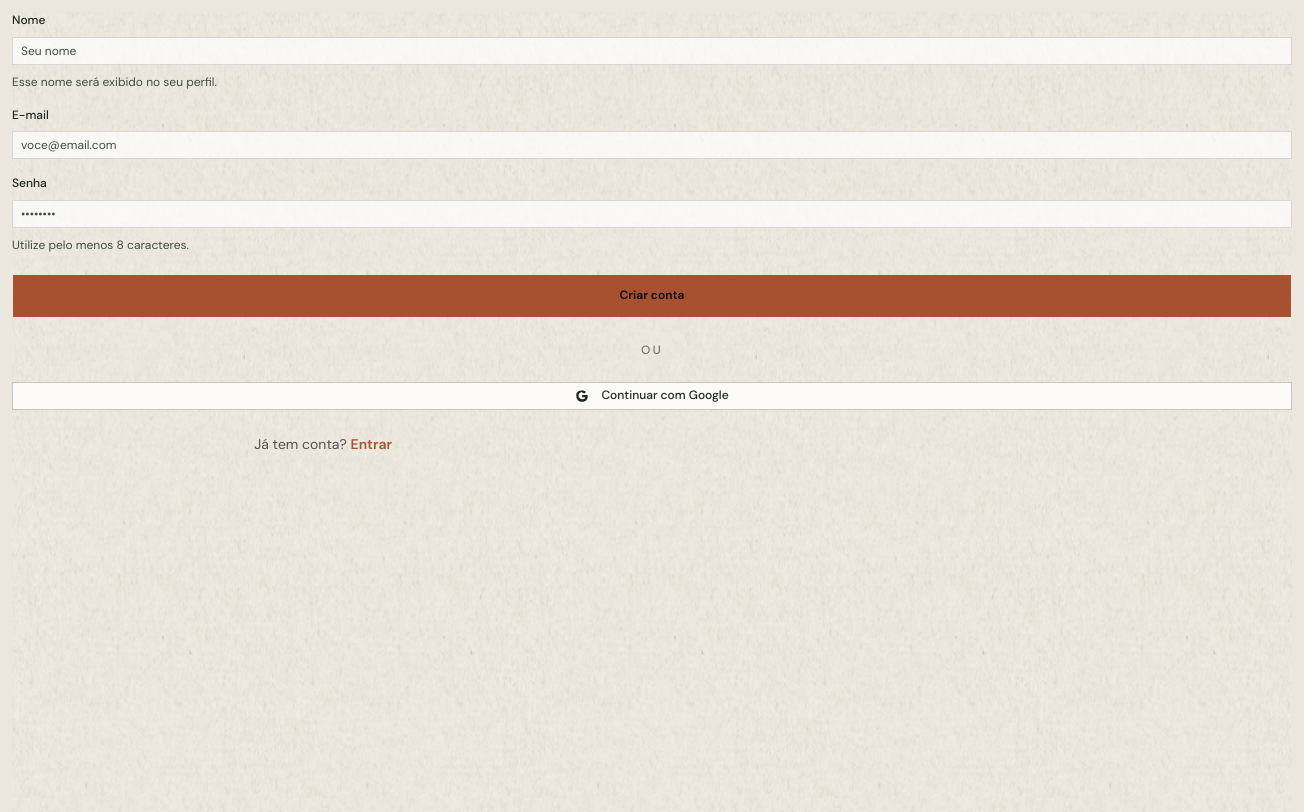
Test: SignUpForm › exibe erro retornado pela API
The image size is (1304, 812).
Type "Douglas" into the field with placeholder "Seu nome" at (652,50), box top-left (12, 36), bottom-right (1292, 64)
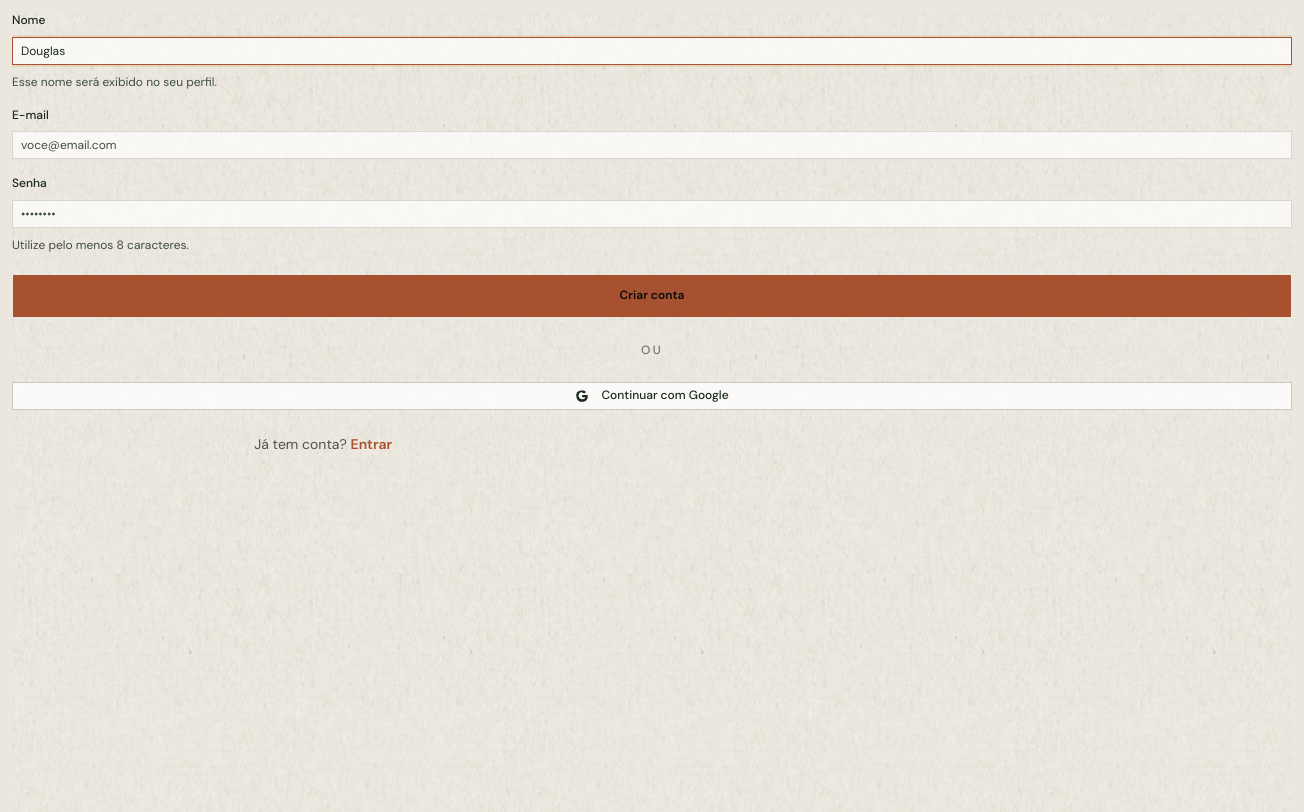
Type "douglas@email.com" into the field with placeholder "voce@email.com" at (652,145), box top-left (12, 131), bottom-right (1292, 159)
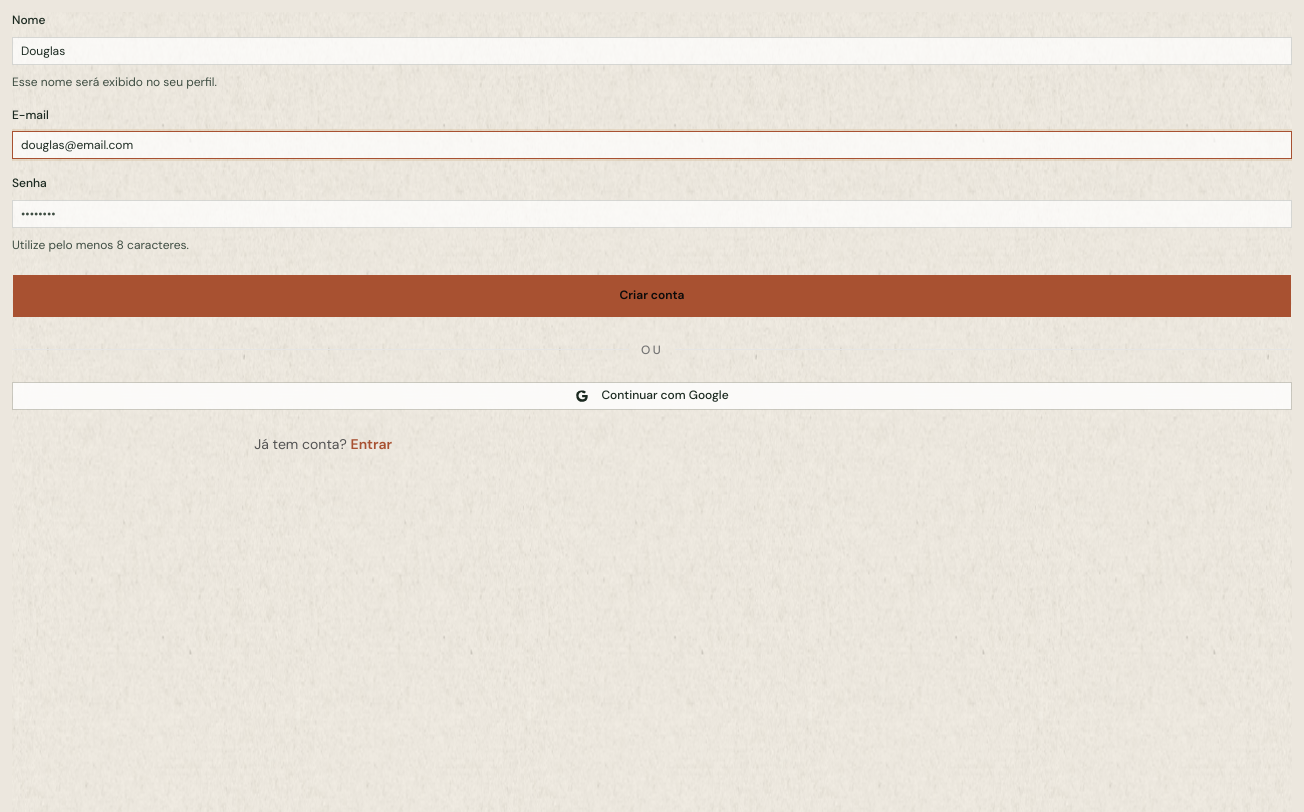
Type "12345678" into the password field with placeholder "••••••••" at (652,214), box top-left (12, 200), bottom-right (1292, 228)
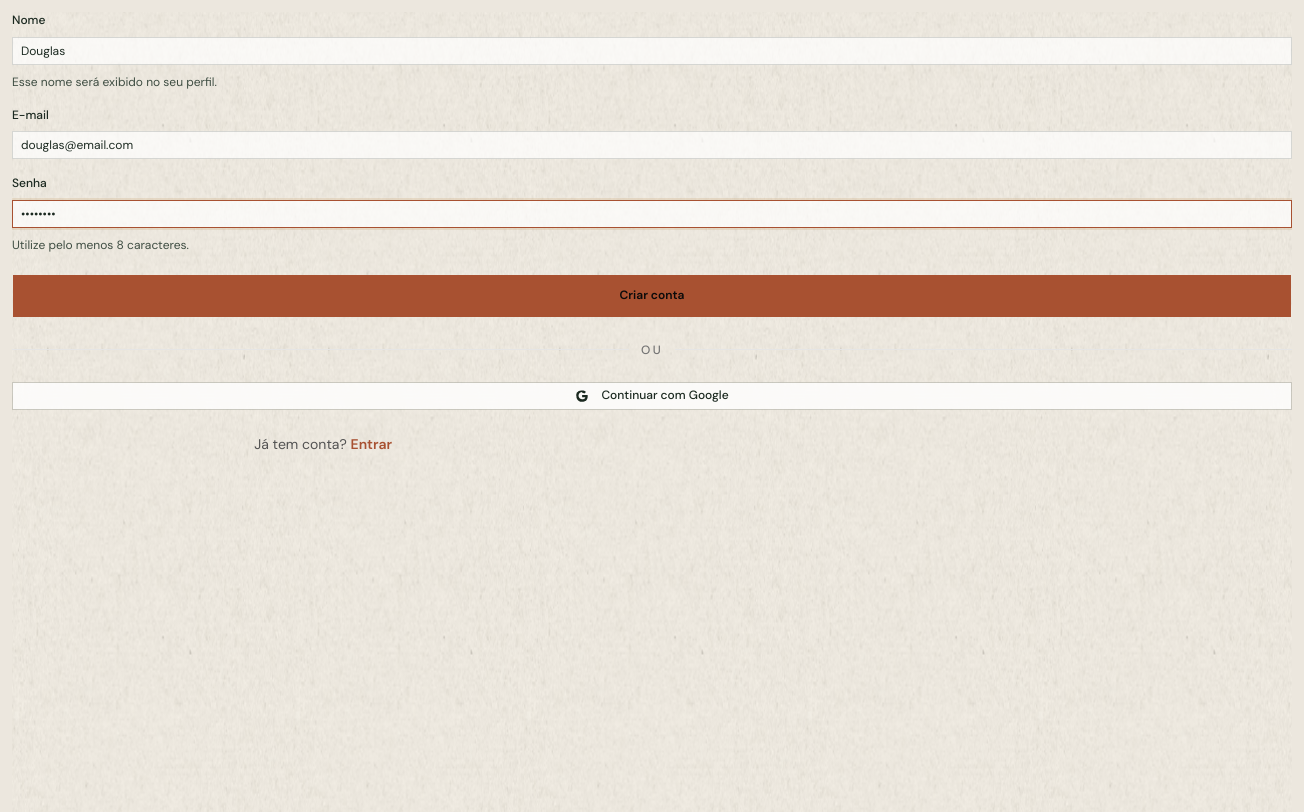
Click the button "Criar conta" at (652,296), box top-left (12, 274), bottom-right (1292, 318)
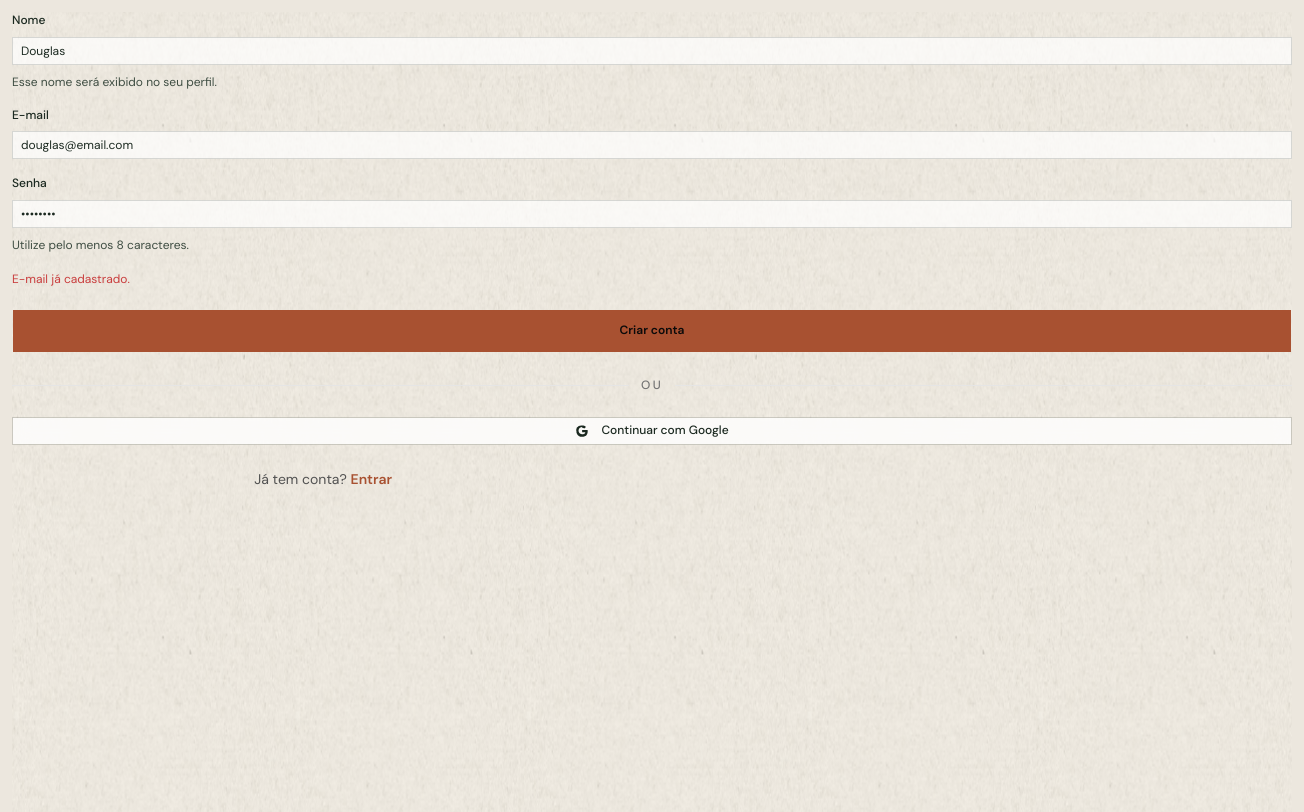
Now the text "E-mail já cadastrado." is shown, box top-left (12, 270), bottom-right (130, 286)
